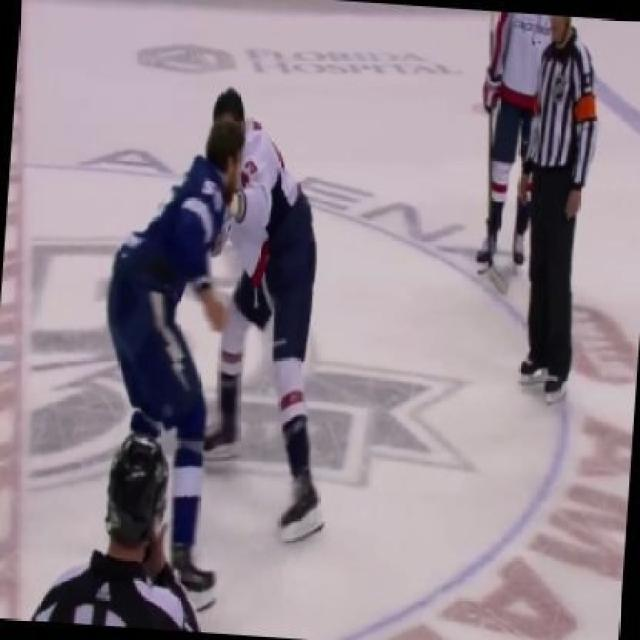fight: (94, 87, 336, 629)
non-fight: (483, 8, 628, 400)
